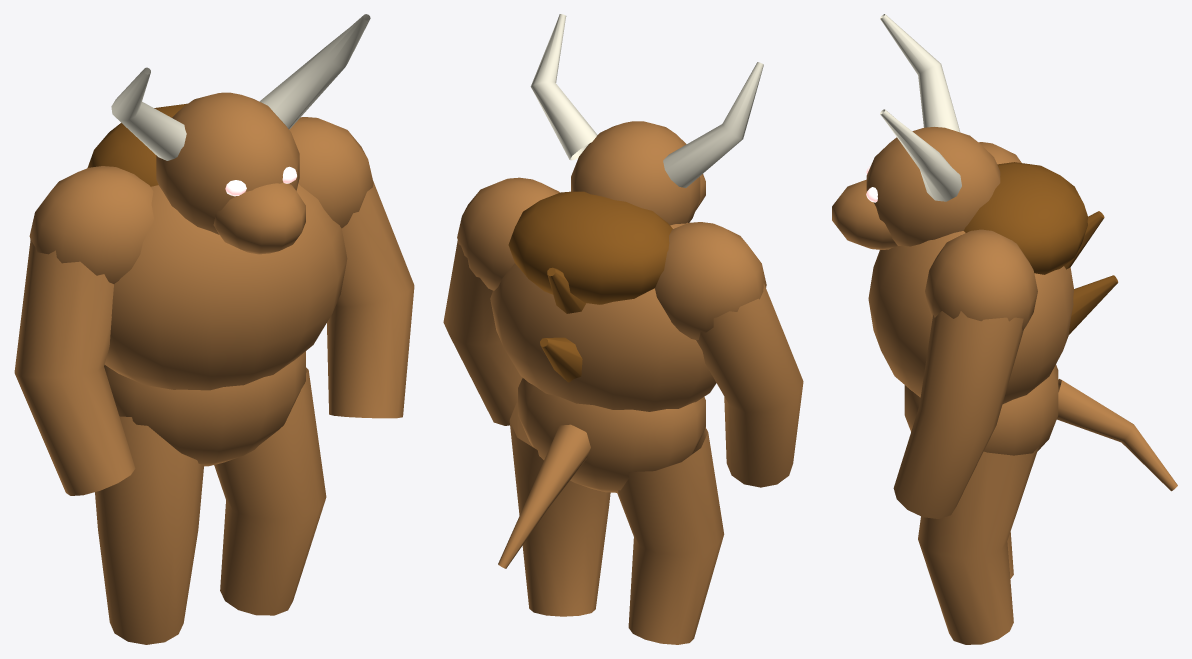
The model's file is mon_bull.glb.
The picture shows the model from 3 angles, left to right: view 1: azimuth 30°, elevation 25°; view 2: azimuth 150°, elevation 25°; view 3: azimuth 270°, elevation 25°; orthographic projection. The views are drawn at different scales.
Visible parts, largest first — view 1: beast_body, beast_horns, beast_ridge; view 2: beast_body, beast_ridge, beast_horns; view 3: beast_body, beast_ridge, beast_horns.
Part boxes in pixels (box(x1,y1,x2,y2)): beast_body: box(14, 92, 414, 644); beast_horns: box(111, 14, 370, 160); beast_ridge: box(87, 103, 187, 186); beast_body: box(443, 121, 803, 644); beast_ridge: box(508, 191, 672, 382); beast_horns: box(530, 14, 763, 187); beast_body: box(832, 127, 1177, 644); beast_ridge: box(964, 162, 1118, 334); beast_horns: box(880, 14, 961, 201).
Size of the model in its own units: 1.73 by 2.62 by 1.5.
